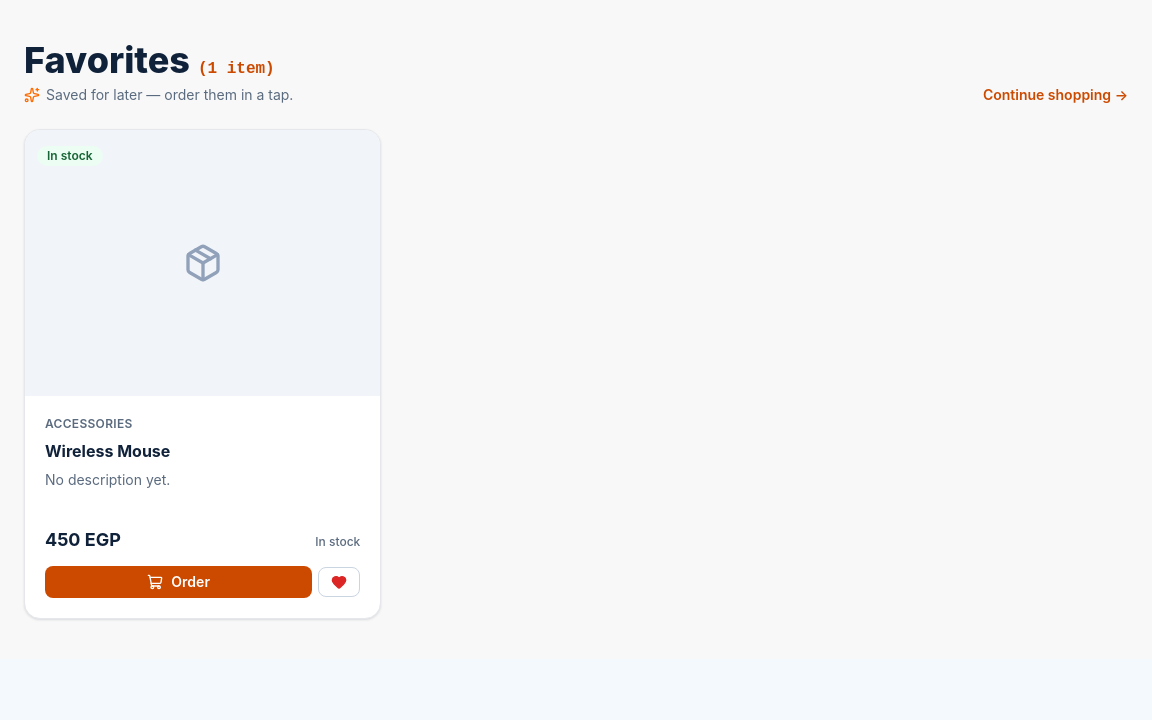
Test: Favorites page › un-hearts a product, which removes it from the page
The image size is (1152, 720).
Click the button named "remove wireless mouse from favorites".
click(339, 582)  # box [318,568,360,598]
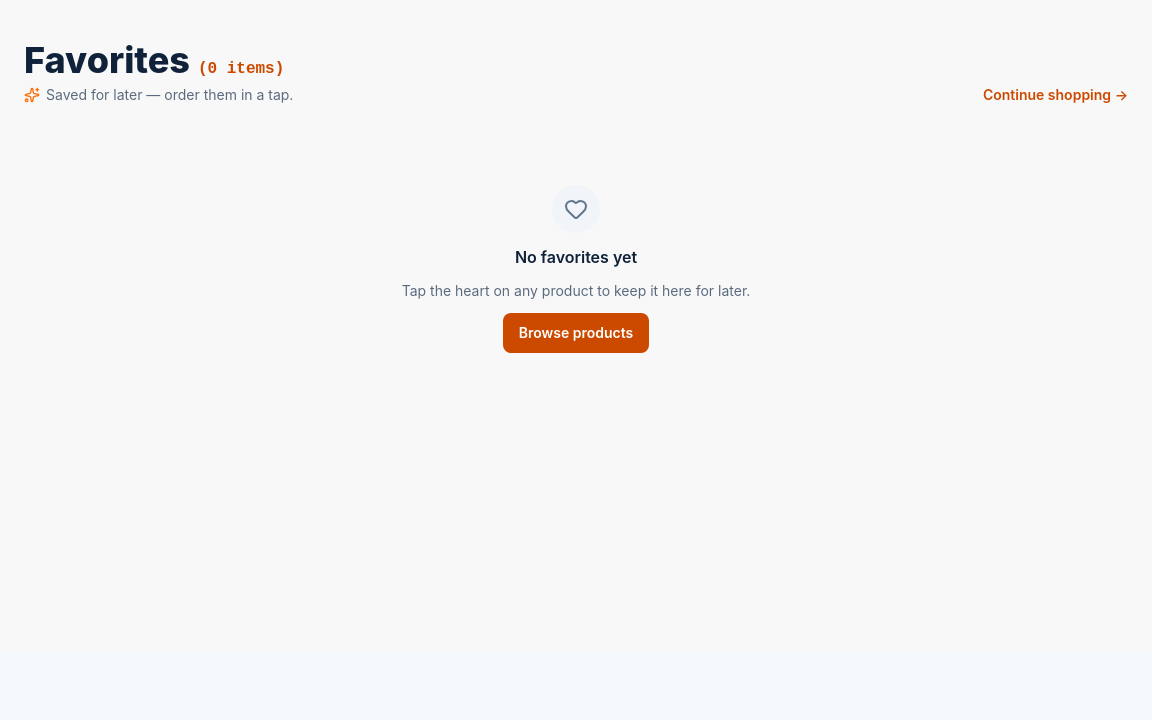
Expected: the heading "No favorites yet" is shown, [515,245,637,269]
